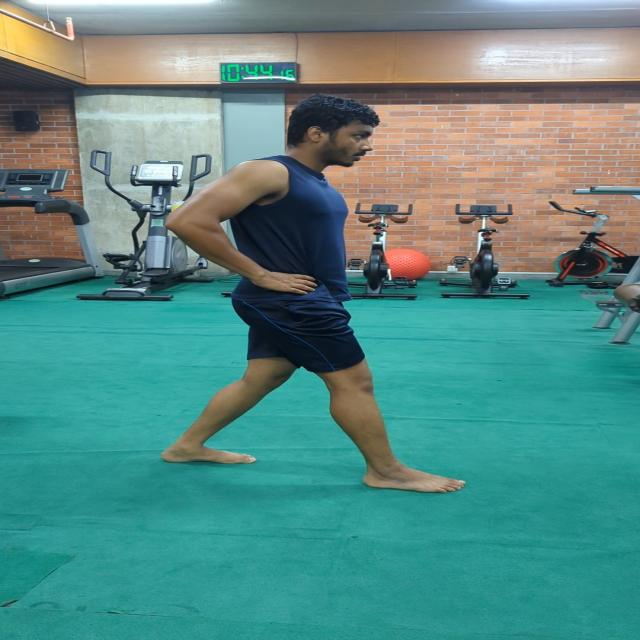Normal_Lunges: (155, 89, 490, 498)
